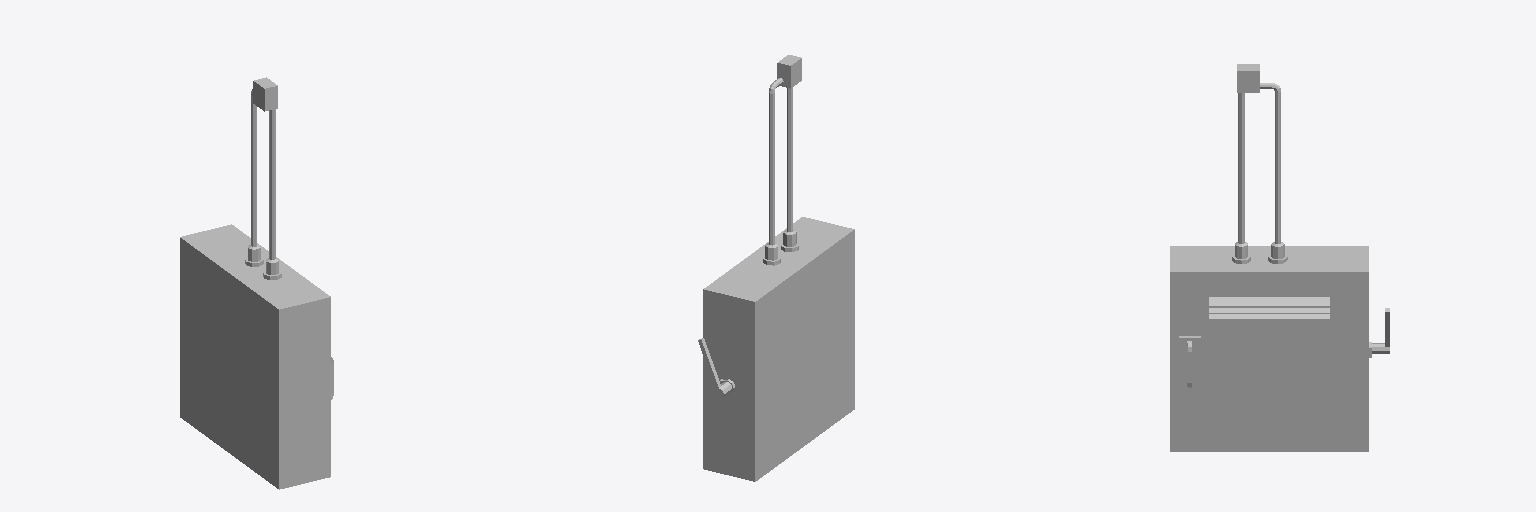
File: electric_box_lowpoly.obj
3 renders of one model, left to right at view 1: azimuth 30°, elevation 25°; view 2: azimuth 150°, elevation 25°; view 3: azimuth 270°, elevation 25°, orthographic.
Parts seen in each view (by area): view 1: electric_box.001_Cube.006, wire_2.001_Cylinder.010, wire_1.001_Cylinder.009, small_box.001_Cube.009; view 2: electric_box.001_Cube.006, wire_1.001_Cylinder.009, wire_2.001_Cylinder.010, small_box.001_Cube.009, lever.001_Cylinder.006; view 3: electric_box.001_Cube.006, vents.001_Cube.007, handle.001_Cube.008, wire_2.001_Cylinder.010, wire_1.001_Cylinder.009, small_box.001_Cube.009.
Part boxes in pixels (x1,y1,x2,y2): electric_box.001_Cube.006: (180, 224, 330, 489); wire_2.001_Cylinder.010: (269, 109, 275, 259); wire_1.001_Cylinder.009: (251, 89, 256, 246); small_box.001_Cube.009: (253, 77, 277, 111); electric_box.001_Cube.006: (703, 217, 854, 481); wire_1.001_Cylinder.009: (769, 78, 783, 245); wire_2.001_Cylinder.010: (787, 87, 792, 231); small_box.001_Cube.009: (777, 55, 801, 88); lever.001_Cylinder.006: (698, 338, 734, 398); electric_box.001_Cube.006: (1170, 246, 1368, 451); vents.001_Cube.007: (1209, 297, 1329, 319); handle.001_Cube.008: (1179, 336, 1200, 389); wire_2.001_Cylinder.010: (1238, 93, 1244, 243); wire_1.001_Cylinder.009: (1260, 83, 1280, 243); small_box.001_Cube.009: (1237, 64, 1259, 92).
Size of the model in its own units: 0.7402 by 4.13 by 2.21.